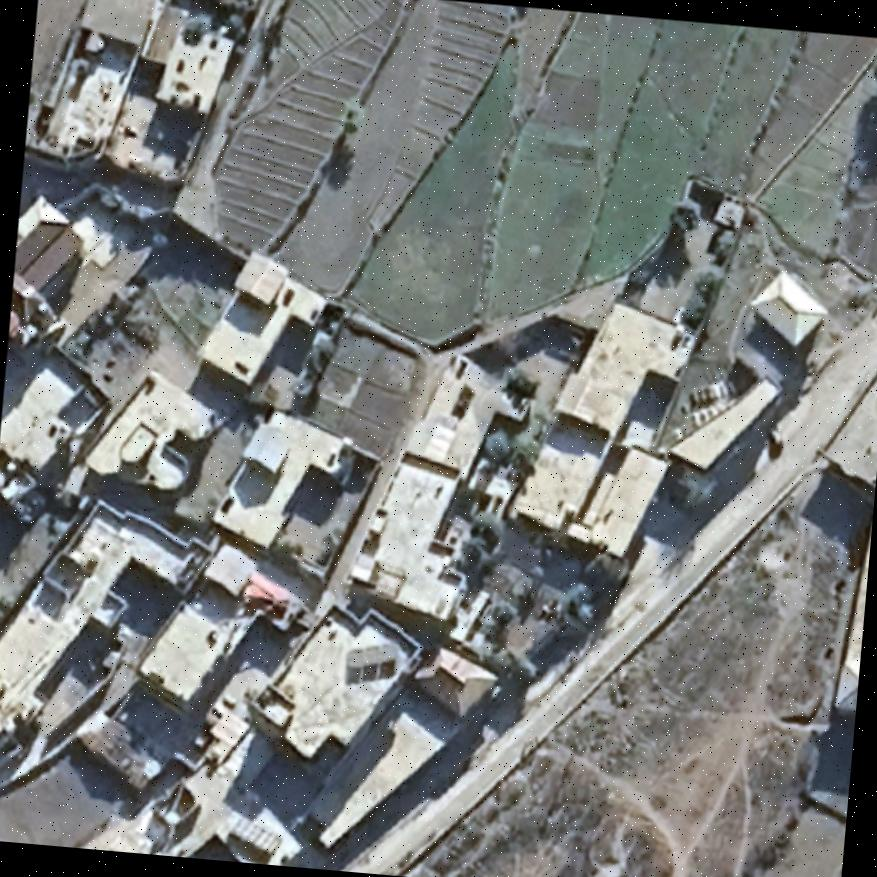Solarpanel: (342, 641, 398, 674)
